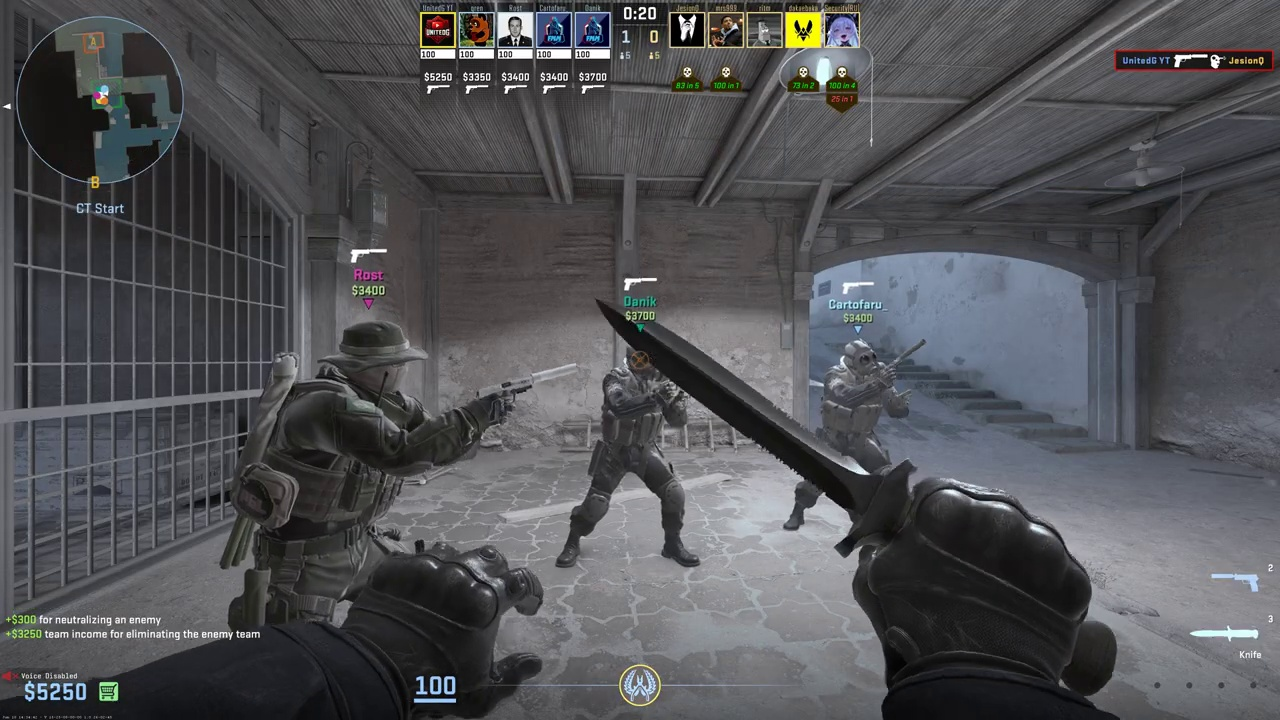CT: (242, 321, 458, 640), (566, 336, 699, 569), (790, 339, 906, 529)
